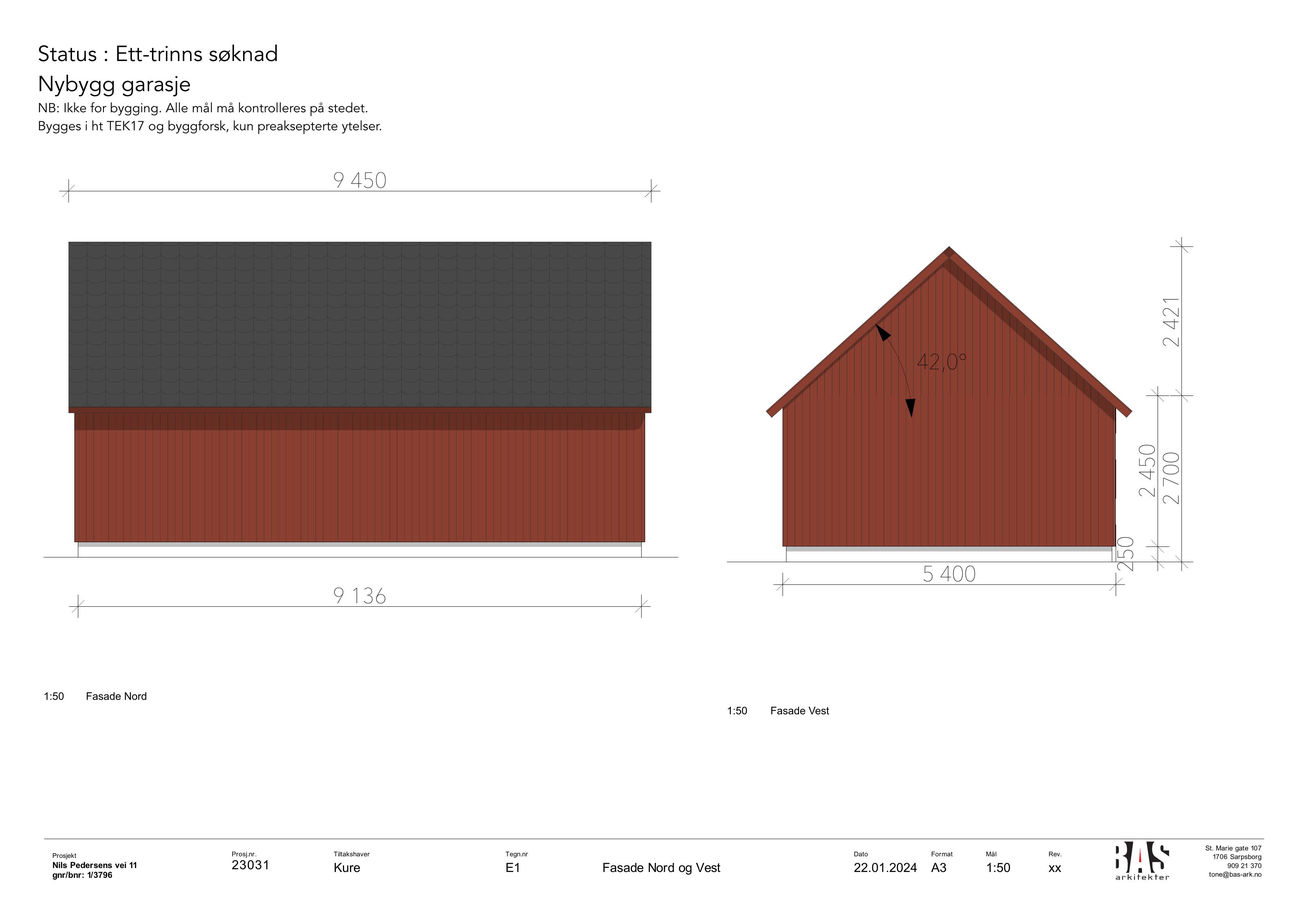fasade: (67, 240, 653, 558), (765, 245, 1134, 563)
